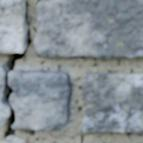brick: (34, 0, 142, 58), (82, 72, 142, 133), (0, 0, 25, 52), (0, 138, 24, 142)
broken_brick: (10, 69, 72, 131), (0, 104, 7, 127), (0, 66, 4, 96)
crack: (0, 2, 32, 140)
